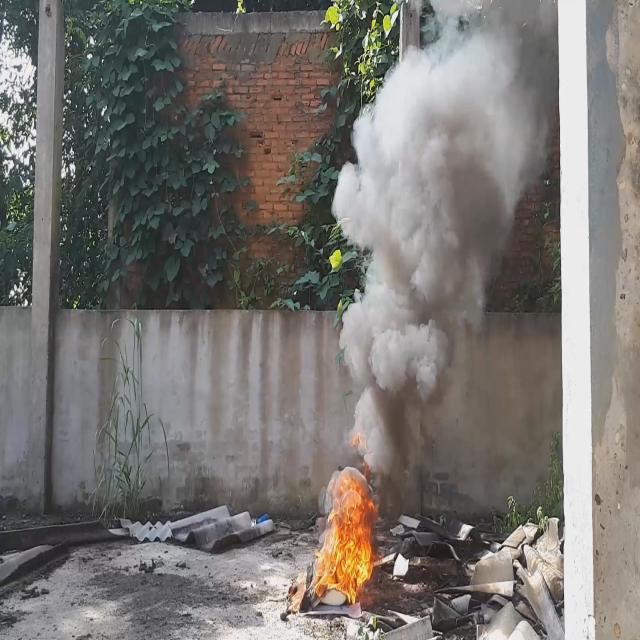Fire: (314, 474, 378, 609)
Smoke: (330, 30, 555, 498)
